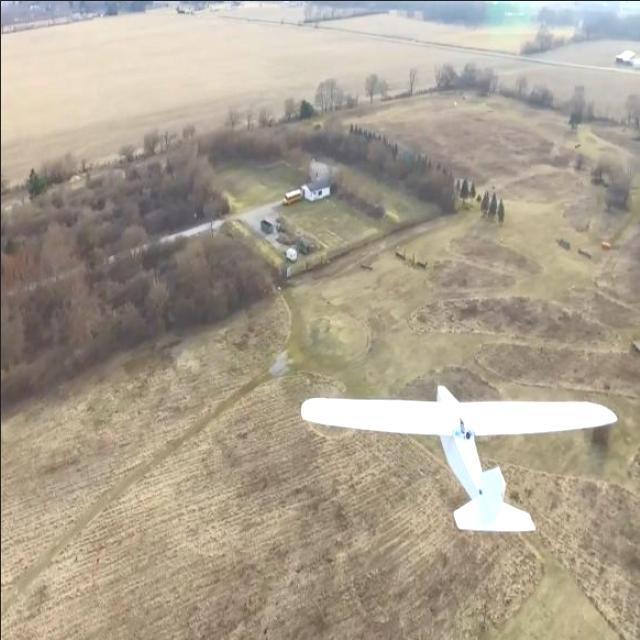plane: (299, 382, 618, 532)
